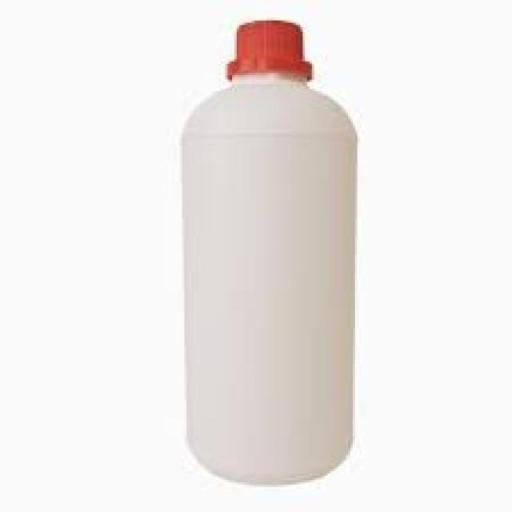plastic: (170, 19, 365, 485)
